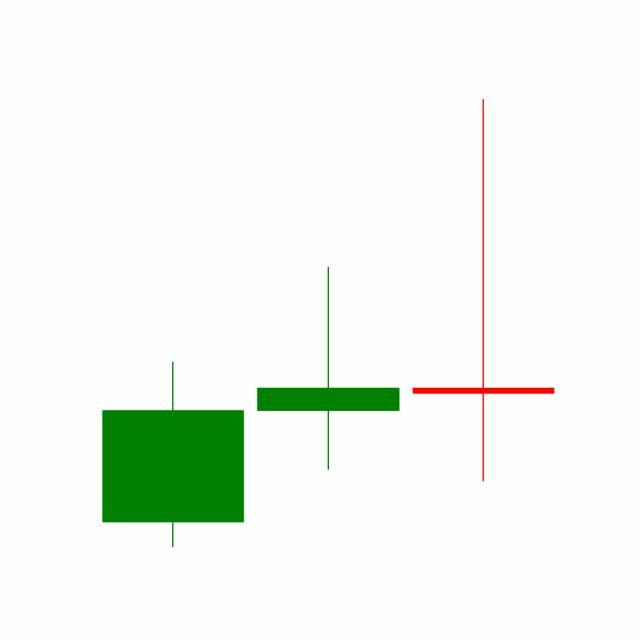Spinning Top: (406, 95, 562, 486)
